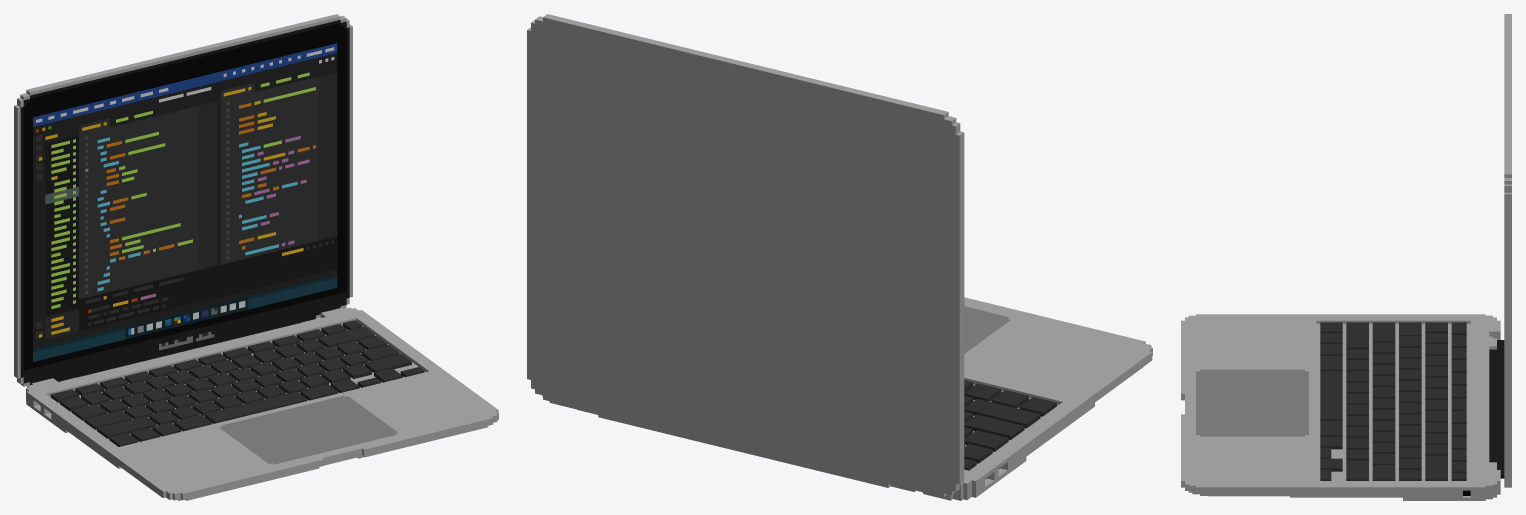
Rendered from macbook.gltf.
3 renders of one model, left to right at view 1: azimuth 30°, elevation 25°; view 2: azimuth 150°, elevation 25°; view 3: azimuth 270°, elevation 25°, orthographic. The views are drawn at different scales.
Visible parts, largest first — view 1: macbook.001; view 2: macbook.001; view 3: macbook.001.
Part boxes in pixels (left/top/right/bottom): macbook.001: left=14, top=14, right=498, bottom=500; macbook.001: left=527, top=14, right=1152, bottom=500; macbook.001: left=1181, top=14, right=1511, bottom=500.
Size of the model in its own units: 10.9 by 9.4 by 8.8.
Materials: 1 (1 with a texture image).
